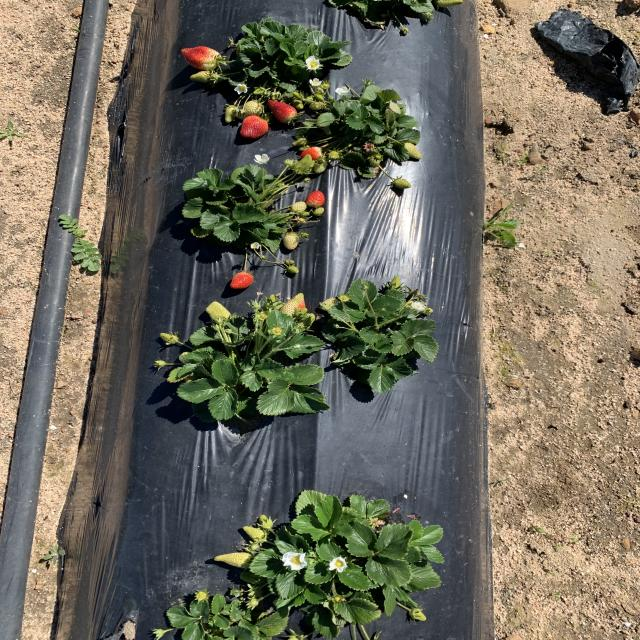unripe: (182, 46, 223, 69), (266, 100, 298, 124), (240, 114, 270, 139), (227, 271, 255, 291), (299, 147, 324, 160), (306, 191, 324, 207)
